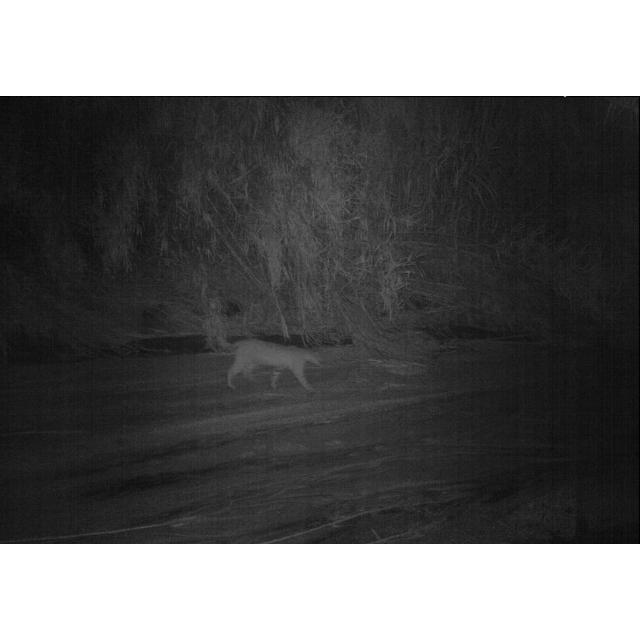animals: (204, 340, 320, 392)
